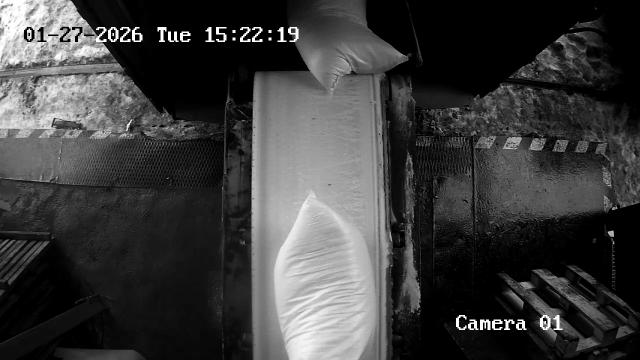bag: (274, 190, 376, 360), (288, 0, 408, 90)
